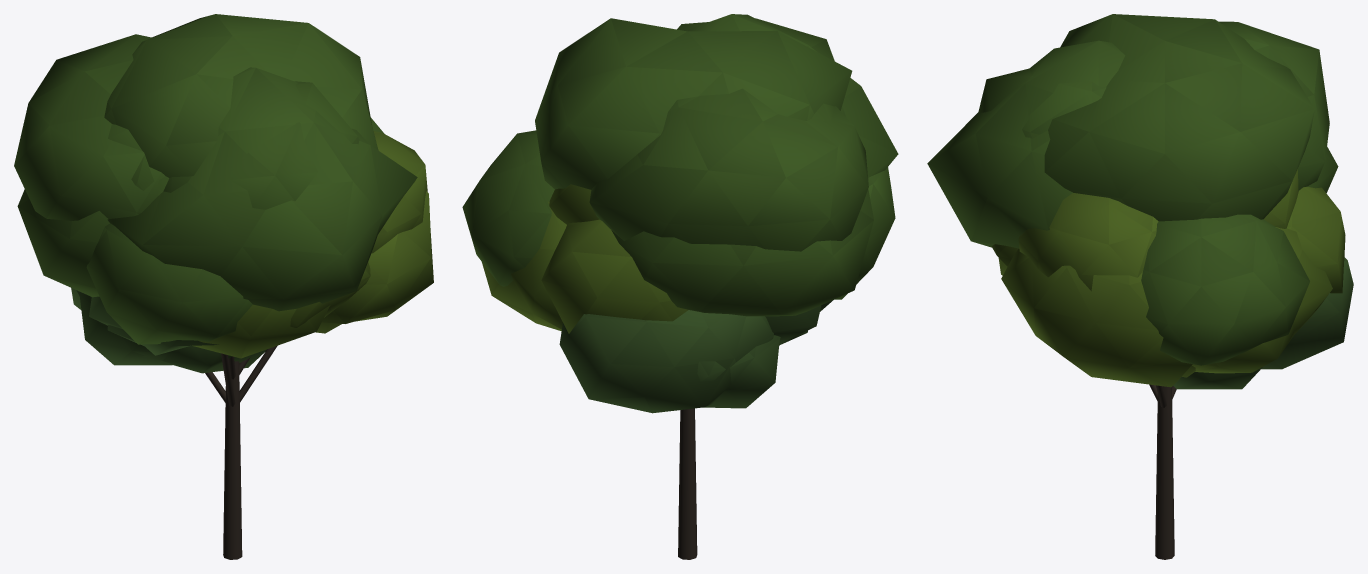
Rendered from tree_big.glb.
3 views of the same model, side by side, from view 1: azimuth 30°, elevation 25°; view 2: azimuth 150°, elevation 25°; view 3: azimuth 270°, elevation 25° (orthographic).
Visible parts, largest first — view 1: tree_big0, tree_big1, tree_big2; view 2: tree_big0, tree_big2, tree_big1; view 3: tree_big0, tree_big1, tree_big2.
Boxes of the visible parts, box(x1,y1,x2,y2) form: tree_big0: box(14, 14, 417, 559); tree_big1: box(192, 131, 433, 379); tree_big2: box(71, 288, 277, 406); tree_big0: box(462, 14, 898, 559); tree_big2: box(559, 299, 833, 413); tree_big1: box(482, 184, 687, 333); tree_big0: box(927, 14, 1338, 559); tree_big1: box(991, 169, 1345, 387); tree_big2: box(1149, 257, 1353, 407).
Bounding box in the file's own units: 9.45 × 12.75 × 9.57.
